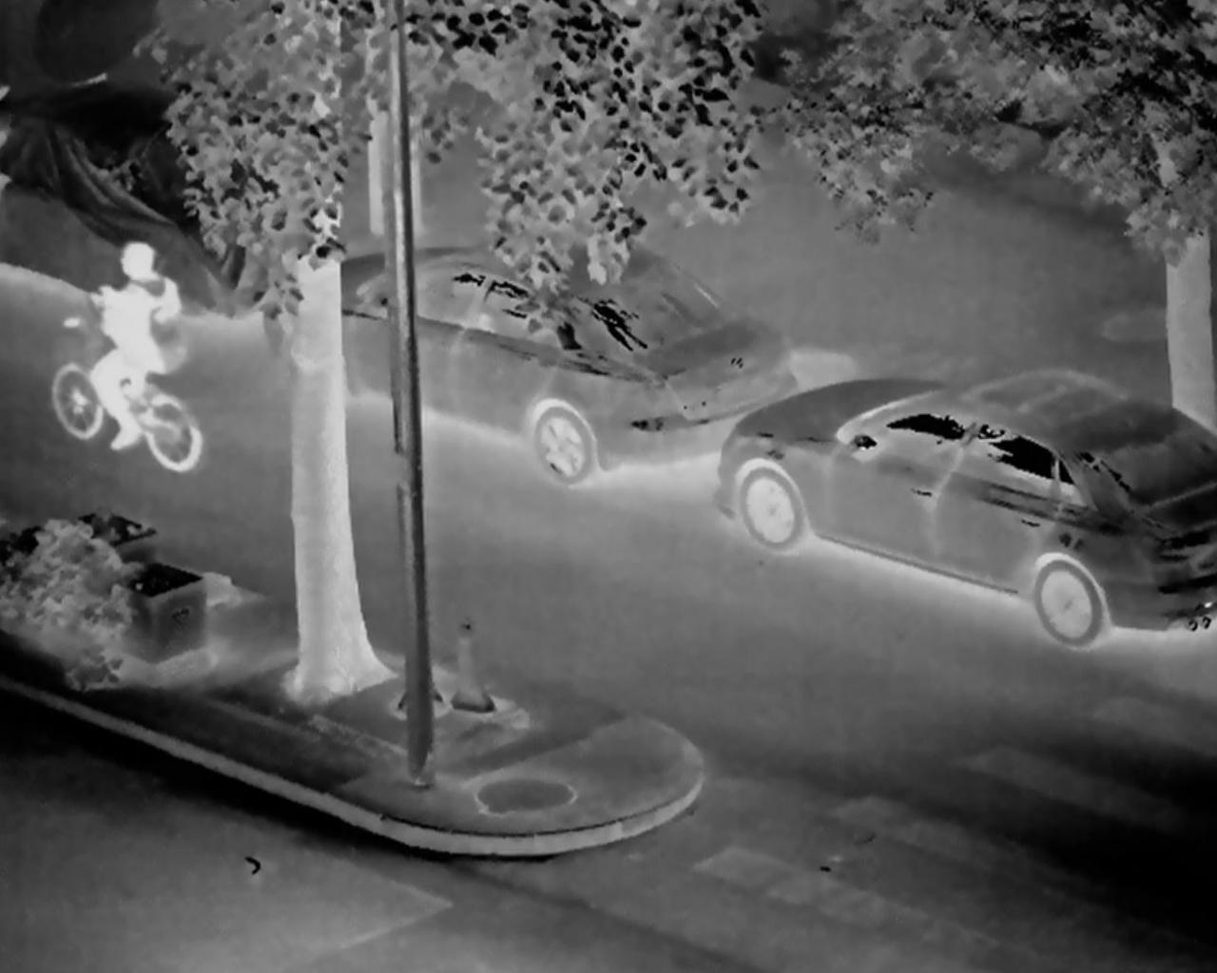person: (78, 231, 195, 455)
